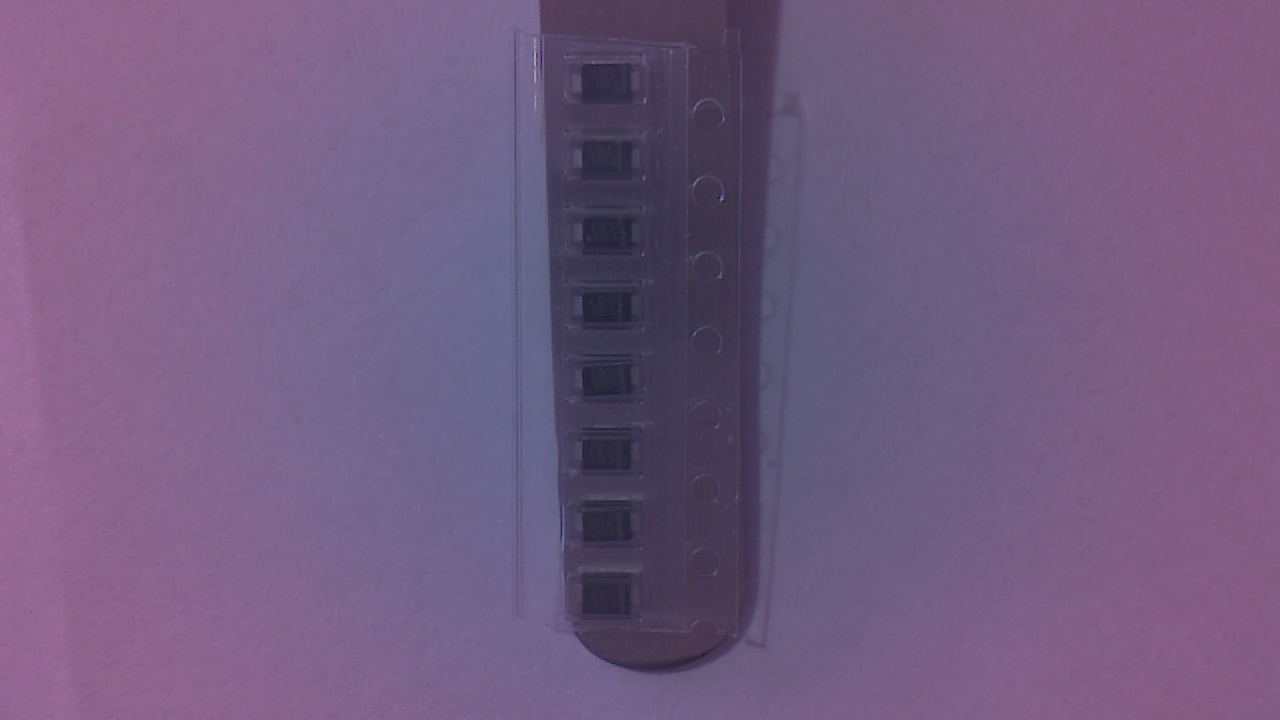Diode: (571, 63, 649, 110), (575, 214, 647, 260), (573, 142, 649, 185), (575, 580, 646, 623), (577, 505, 648, 547), (577, 291, 644, 332), (575, 439, 645, 476), (578, 366, 645, 404)
